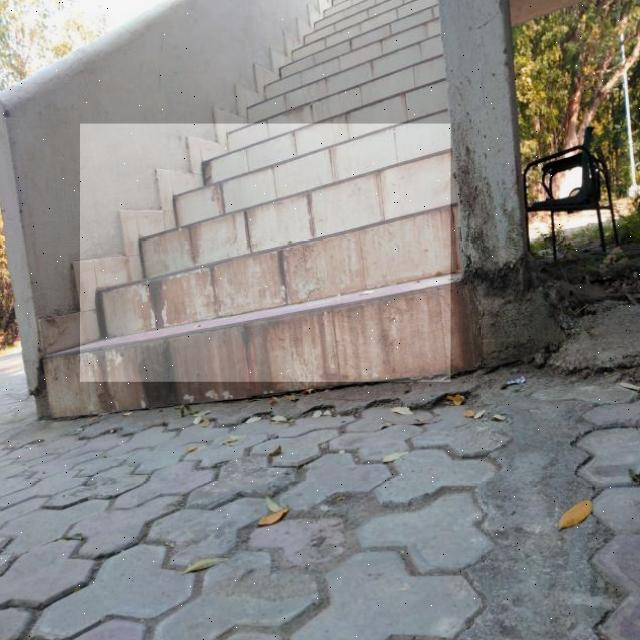stair: (80, 124, 451, 382)
